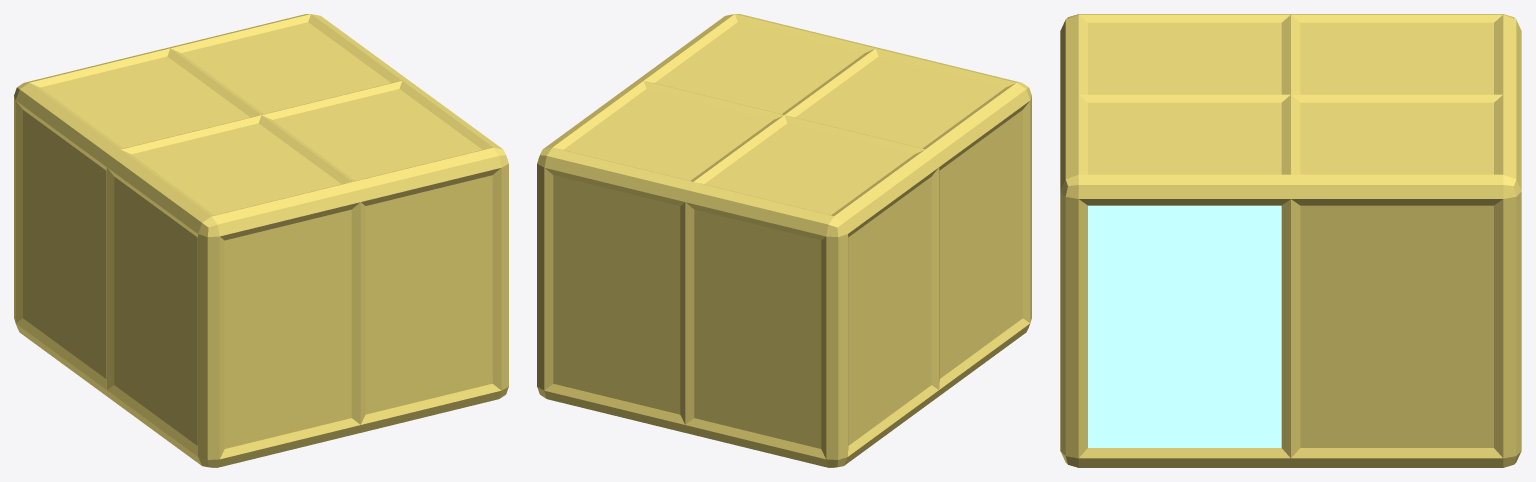
File: SM_PWR_DieselGenerator_LG.fbx
3 renders of one model, left to right at view 1: azimuth 30°, elevation 25°; view 2: azimuth 150°, elevation 25°; view 3: azimuth 270°, elevation 25°, orthographic. The views are drawn at different scales.
Parts seen in each view (by area): view 1: SM_PWR_DieselGenerator_LG; view 2: SM_PWR_DieselGenerator_LG; view 3: SM_PWR_DieselGenerator_LG.
Part boxes in pixels (<box>): SM_PWR_DieselGenerator_LG: <box>14,14,508,467</box>; SM_PWR_DieselGenerator_LG: <box>537,14,1031,467</box>; SM_PWR_DieselGenerator_LG: <box>1060,14,1521,467</box>.
Size of what is drawn, in the model's own units: 2.25 by 1.75 by 2.5.
